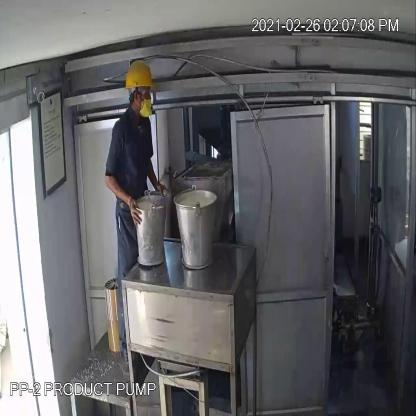helmet: (120, 54, 162, 100)
